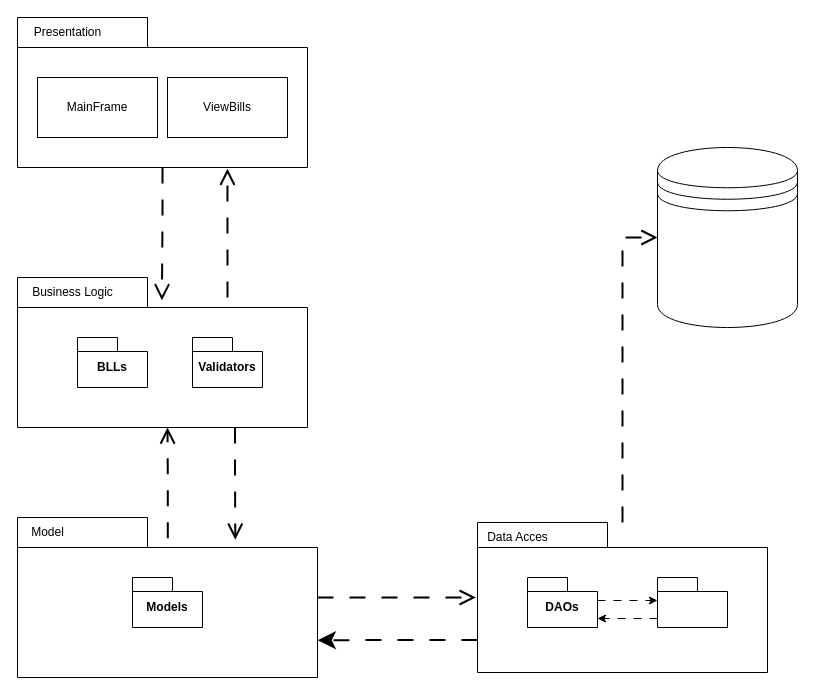
This 815x695 diagram has some shape labels left out. The shapes that lost their labels are listed below. From the top down, each one's centre as x and y in pixels, then its label:
[727,237]: DB
[692,602]: Connection
